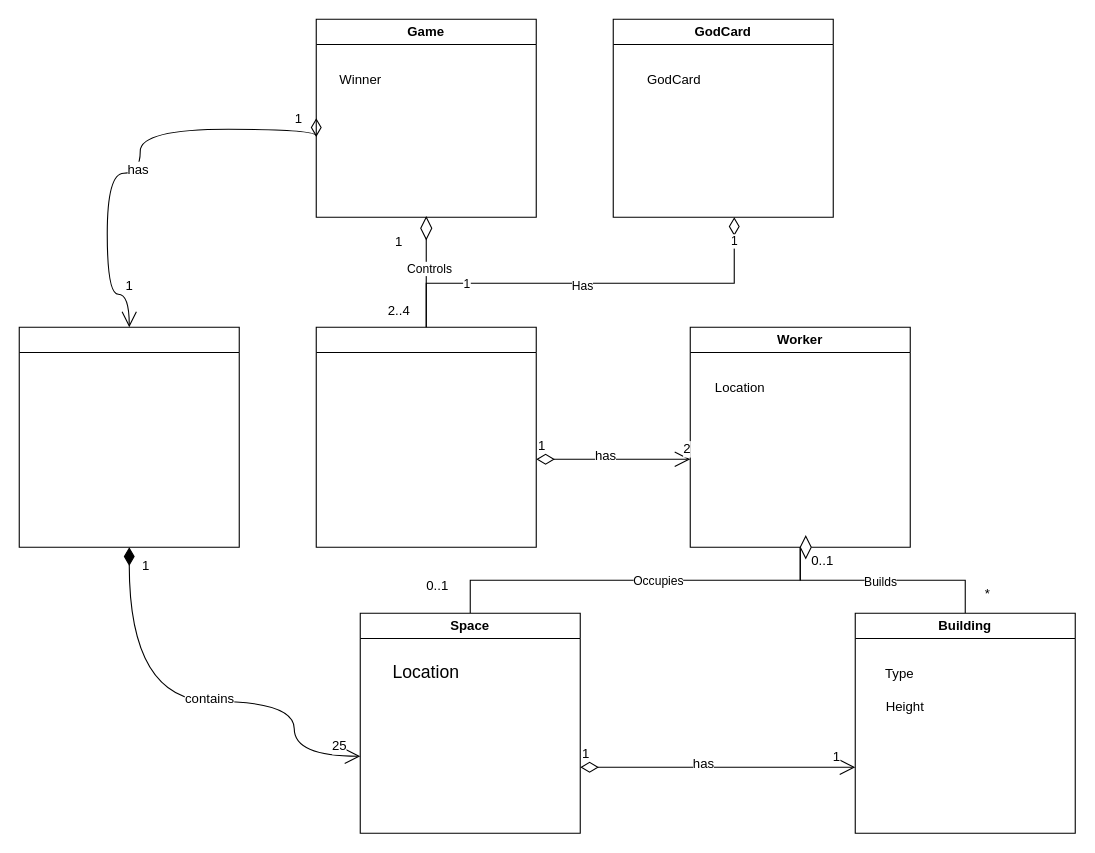
Image size: 1095x853. Some labels were removed from this diagram. Here are the shapes that lost their labels. From the top down, the centre of each, then its label:
point 128,436: Board
point 425,436: Player
